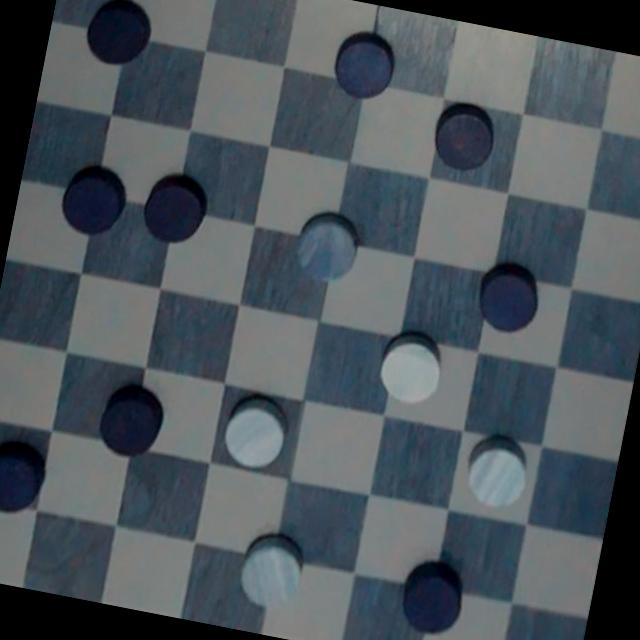BOARD: (0, 0, 640, 640)
black: (129, 154, 221, 262), (464, 245, 556, 346), (84, 372, 174, 468), (420, 90, 511, 184), (319, 19, 406, 113), (49, 155, 134, 249), (392, 552, 474, 640), (77, 0, 159, 78), (0, 431, 58, 523)
white: (212, 384, 298, 484), (230, 522, 316, 622), (457, 424, 542, 520), (285, 207, 368, 296), (371, 321, 452, 410)
